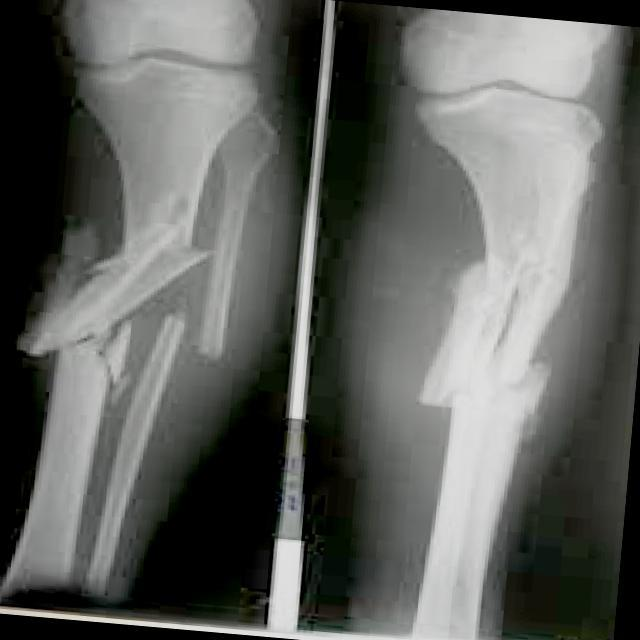Comminuted Fracture: (29, 265, 158, 388), (165, 287, 253, 398)
